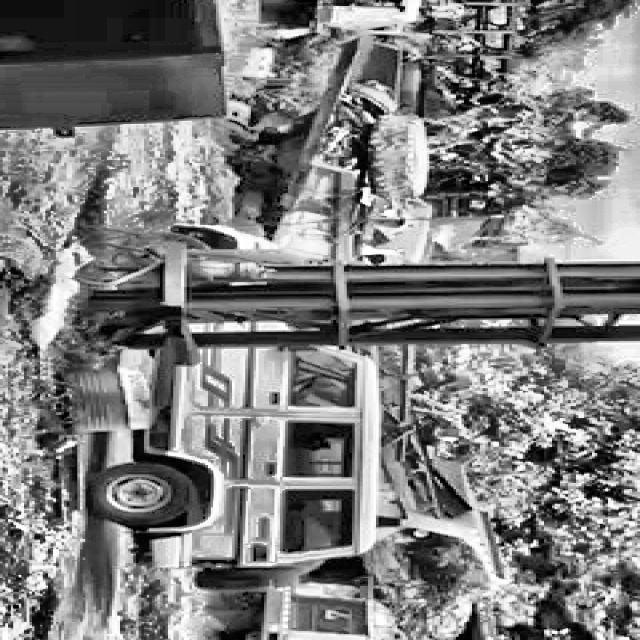light_vehicle: (188, 345, 399, 591)
